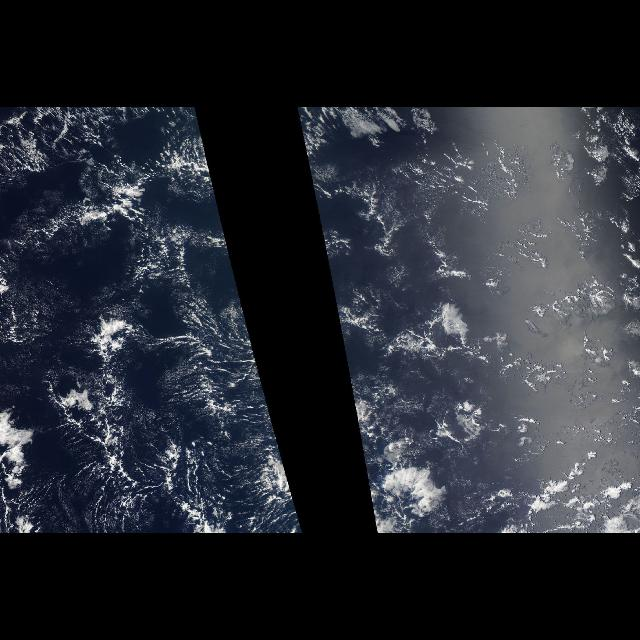Fish: (9, 114, 304, 530), (298, 114, 328, 262)
